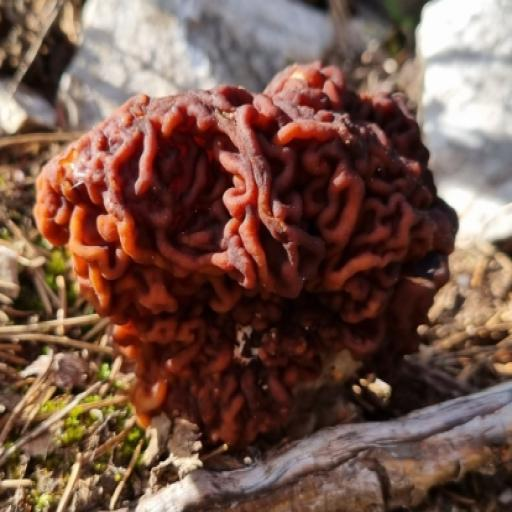False Morel: (10, 0, 512, 485)
